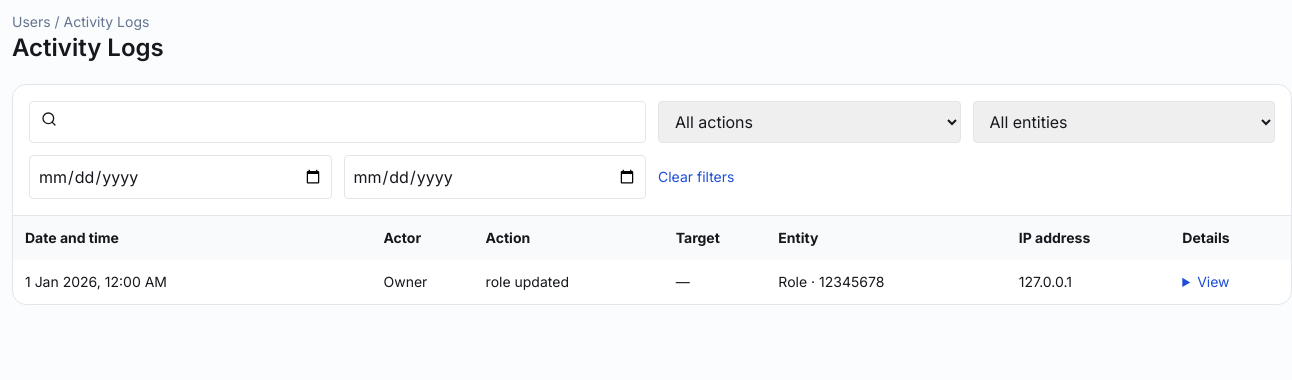
Test case: administration pages › expands safe activity metadata
Click the heading "View" at (1213, 282), box [1197,273,1230,290]
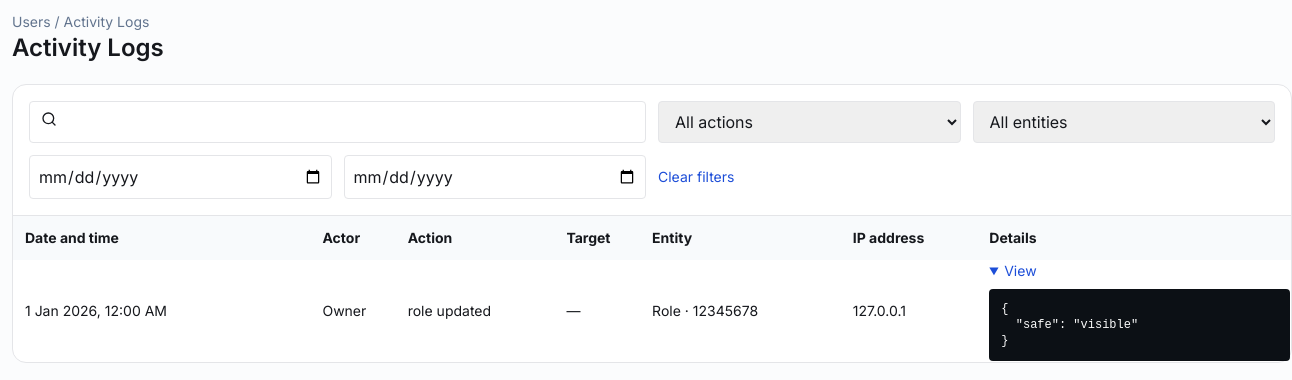
Expected: the text "{ \"safe\": \"visible\" }" is shown, [989,289,1290,361]
